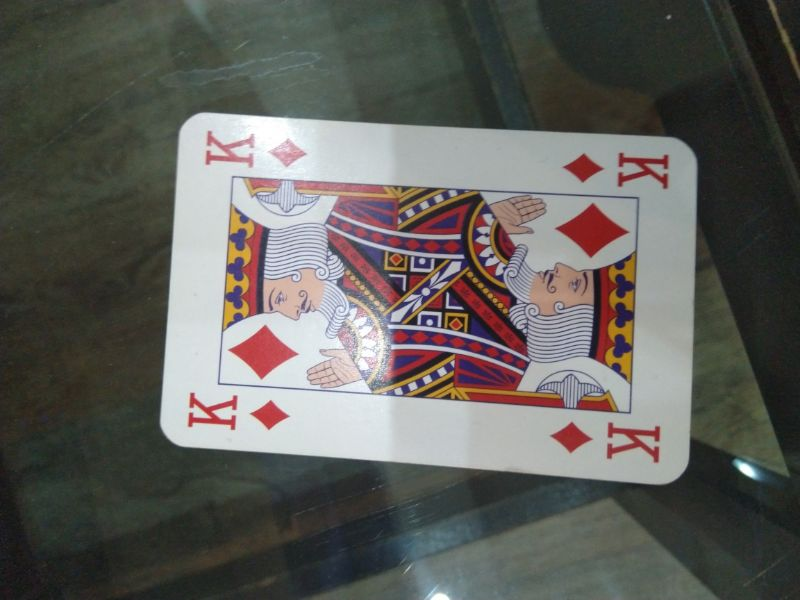Kd: (540, 417, 665, 466), (560, 145, 675, 192), (198, 125, 312, 172), (182, 389, 293, 437)
